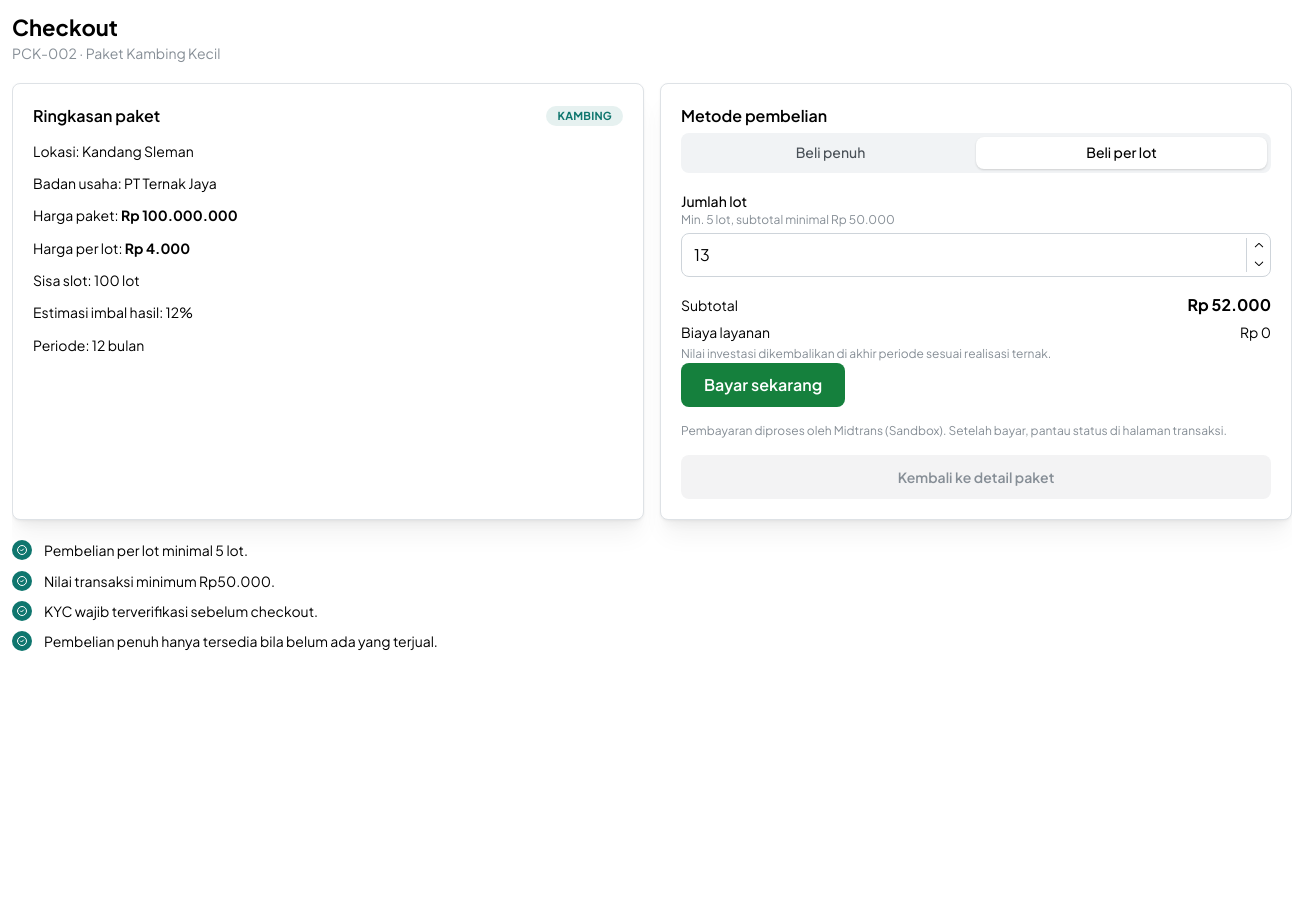
Test: Checkout Page › enforces minimum checkout of Rp50.000
The width and height of the screenshot is (1292, 912).
Expected: the button "Bayar sekarang" is shown, [681, 363, 845, 407]
Step 1. Clear the field labelled "Jumlah lot" → (976, 255), box [681, 233, 1271, 277]
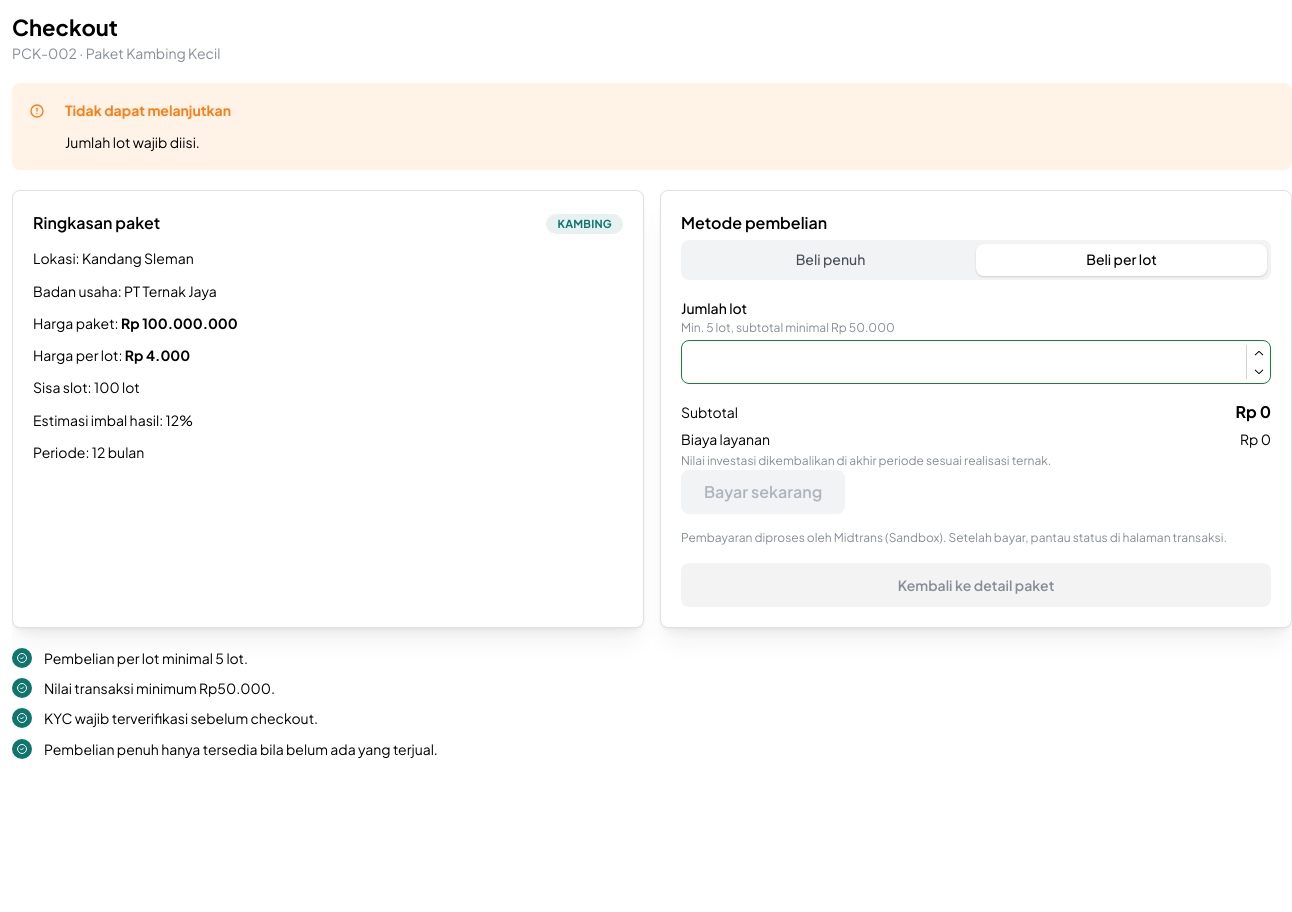
Step 2. Type "5" into the field labelled "Jumlah lot" → (976, 362), box [681, 340, 1271, 384]
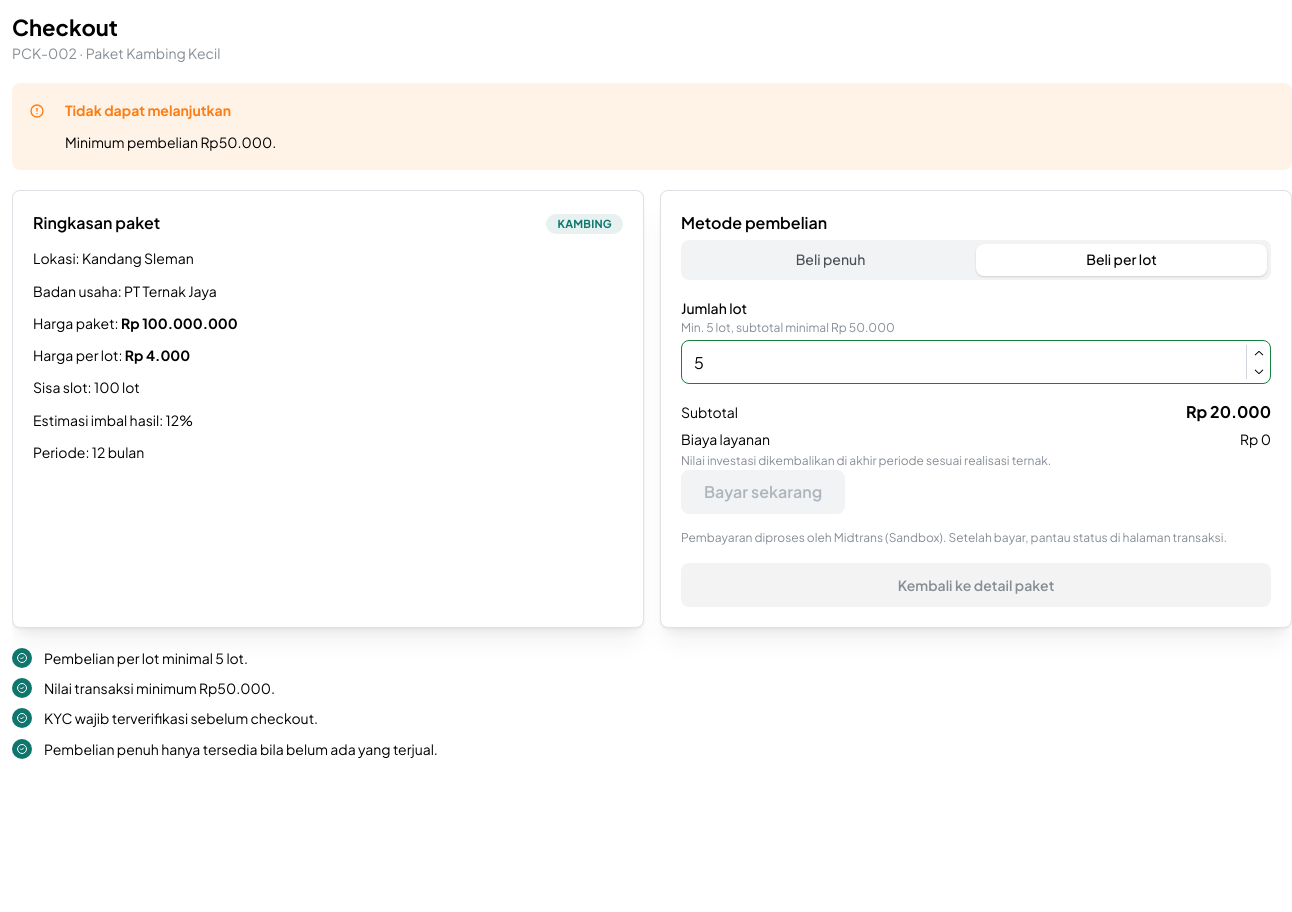
Expected: the text "Minimum pembelian Rp50.000." is shown, [65, 132, 276, 154]
